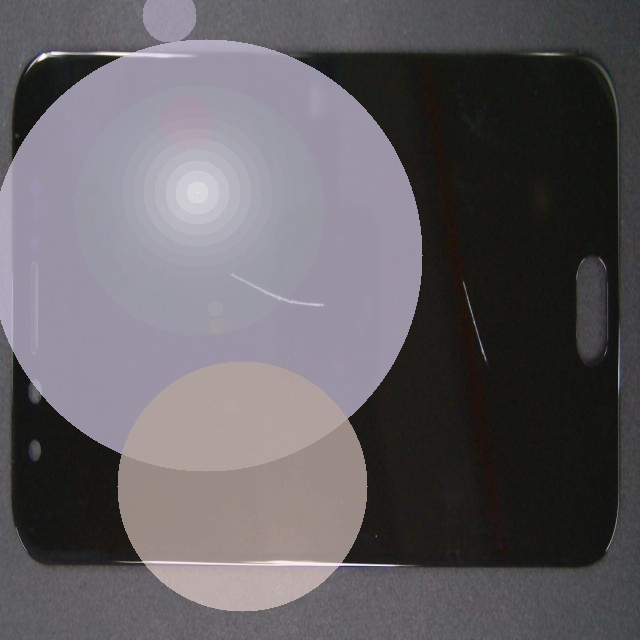scratch: (54, 117, 364, 436)
